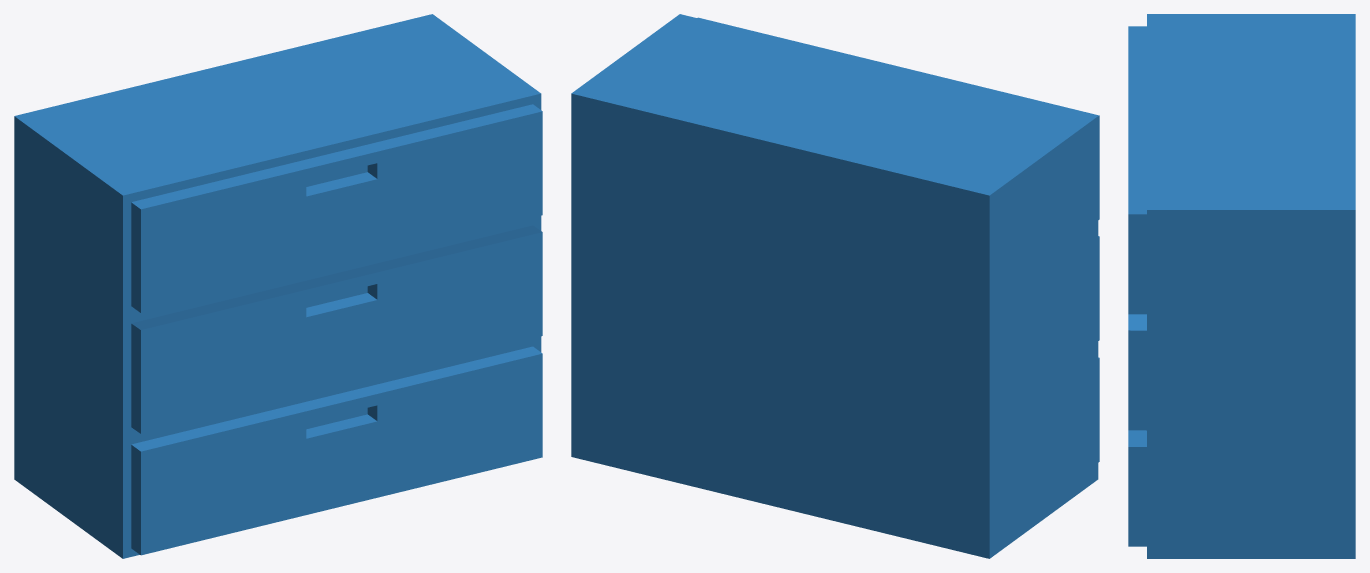
File: Clothes drawer.fbx
3 renders of one model, left to right at view 1: azimuth 30°, elevation 25°; view 2: azimuth 150°, elevation 25°; view 3: azimuth 270°, elevation 25°, orthographic. The views are drawn at different scales.
Parts seen in each view (by area): view 1: Clothes Drawer; view 2: Clothes Drawer; view 3: Clothes Drawer.
Part boxes in pixels (x1=…): Clothes Drawer: x1=14, y1=14, x2=542, y2=558; Clothes Drawer: x1=571, y1=14, x2=1099, y2=558; Clothes Drawer: x1=1128, y1=14, x2=1355, y2=558.
Size of the model in its own units: 1 by 0.83 by 0.4904.
